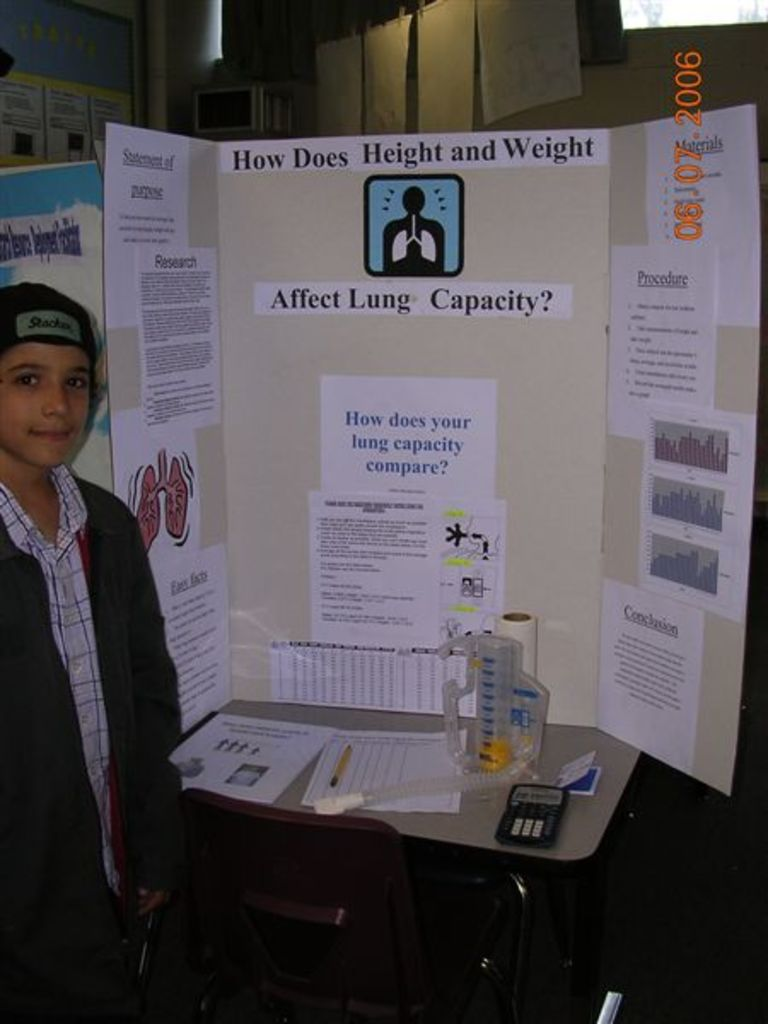face: (1, 317, 102, 499)
